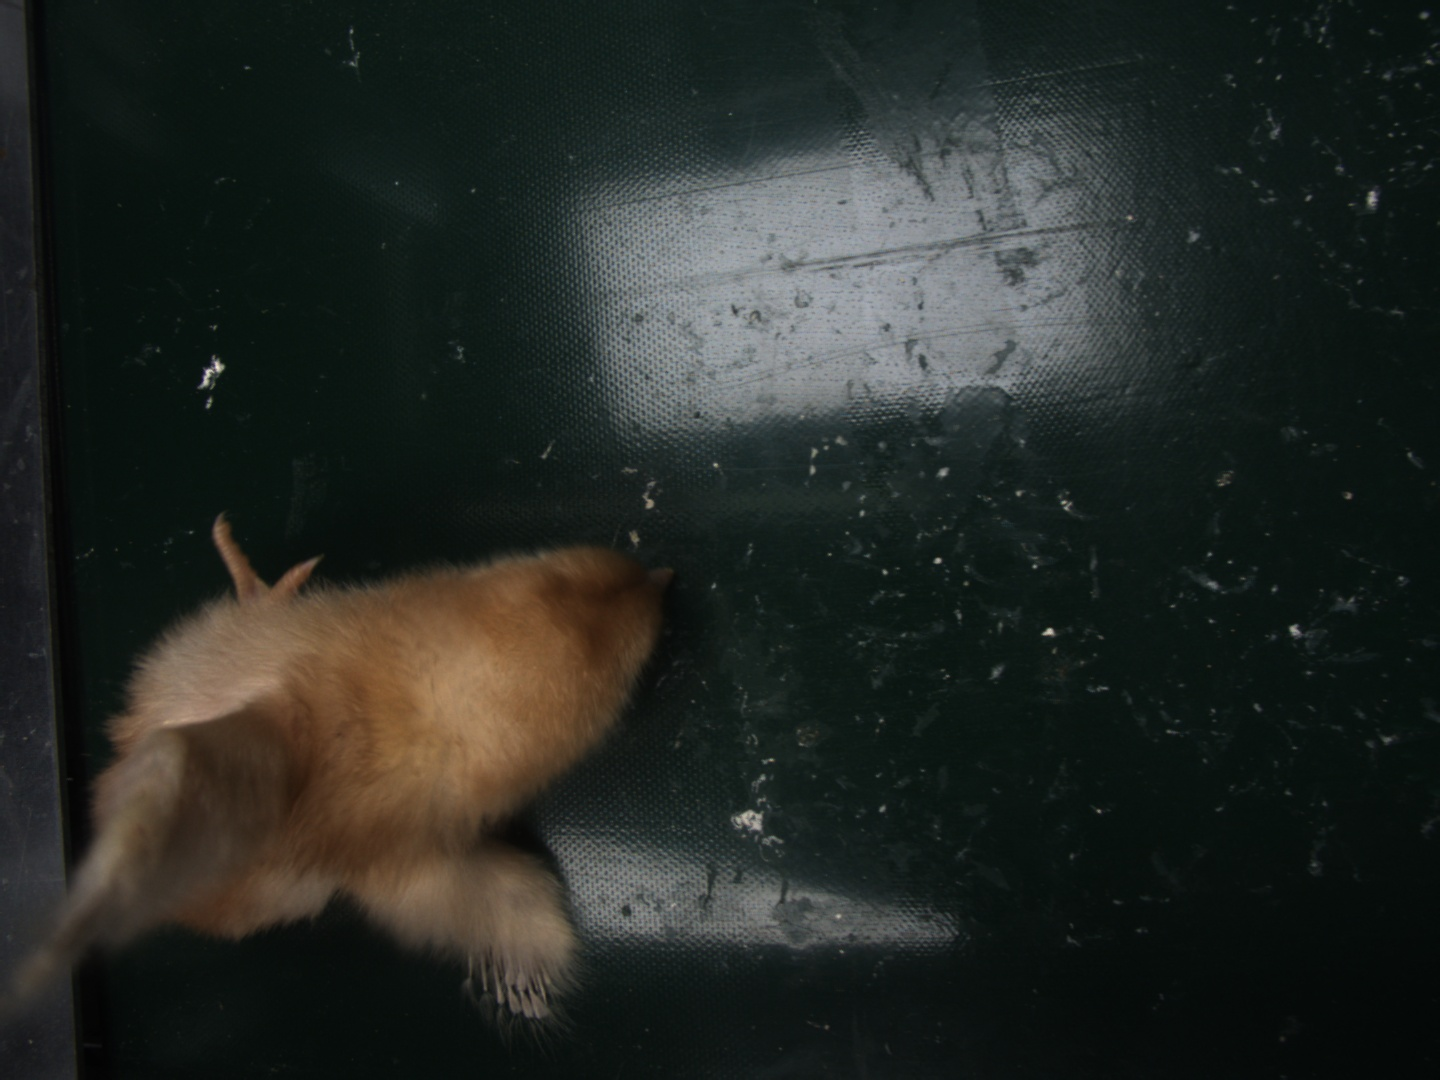female: (466, 950, 558, 1020)
